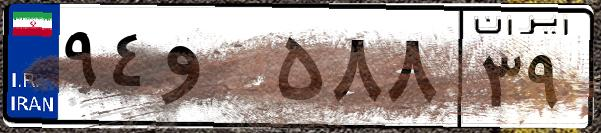3: (475, 38, 525, 113)
4: (110, 28, 158, 98)
5: (270, 28, 330, 110)
8: (385, 28, 445, 110), (330, 28, 385, 110)
9: (57, 26, 110, 100), (525, 38, 570, 115)
و: (158, 20, 270, 120)
